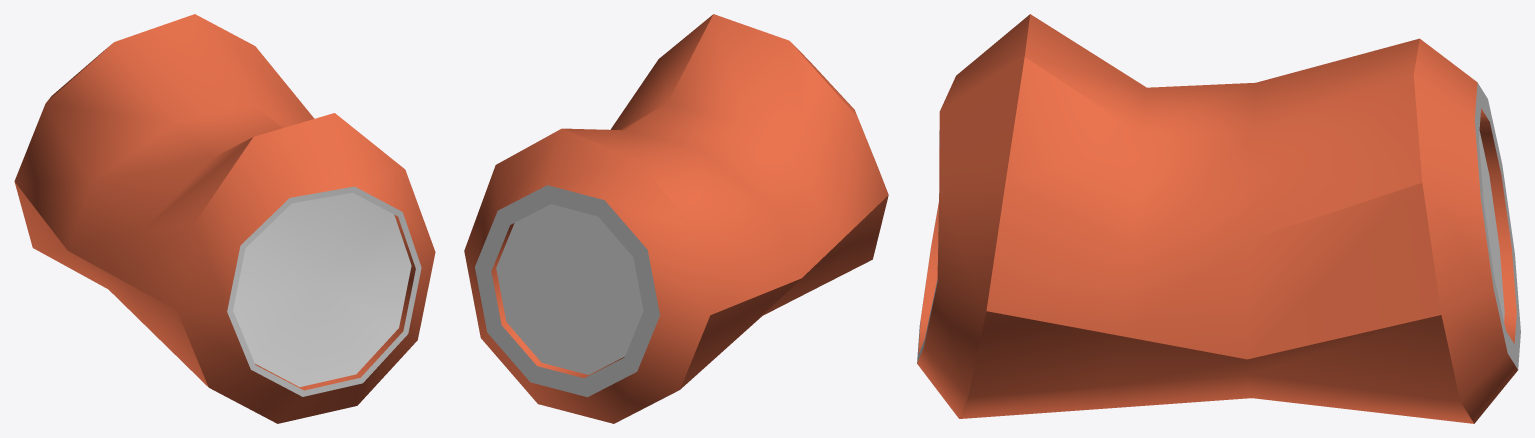
The model's file is keleeng.fbx.
3 views of the same model, side by side, from view 1: azimuth 30°, elevation 25°; view 2: azimuth 150°, elevation 25°; view 3: azimuth 270°, elevation 25° (orthographic). The views are drawn at different scales.
Parts seen in each view (by area): view 1: trashes.020; view 2: trashes.020; view 3: trashes.020.
Part boxes in pixels (x1,y1,x2,y2): trashes.020: (14,14,435,423); trashes.020: (464,14,888,423); trashes.020: (917,14,1520,423).
Size of the model in its own units: 20.55 by 19.33 by 29.1.
